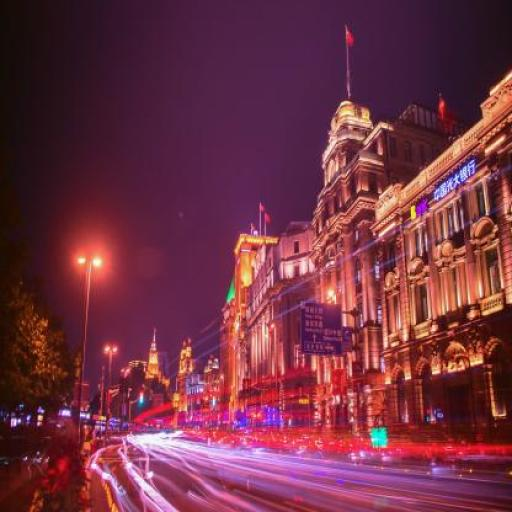street light: (76, 255, 103, 458), (104, 346, 118, 439), (265, 334, 272, 435), (271, 324, 276, 439), (222, 375, 225, 428)
